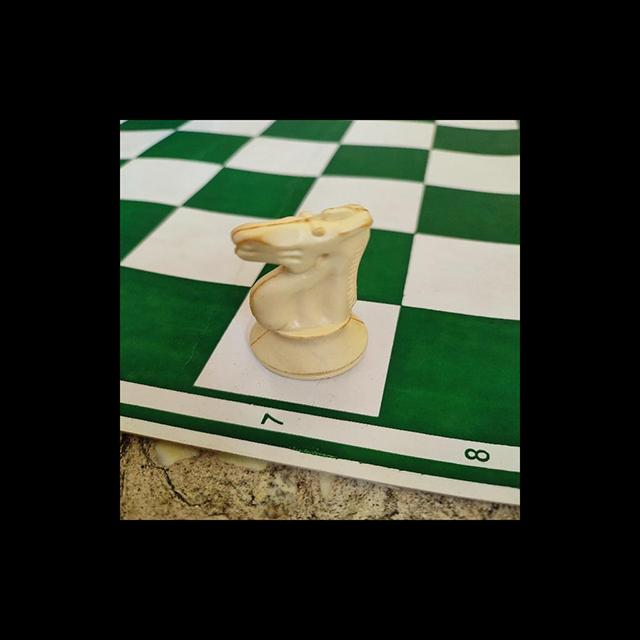white-knight: (228, 202, 374, 382)
